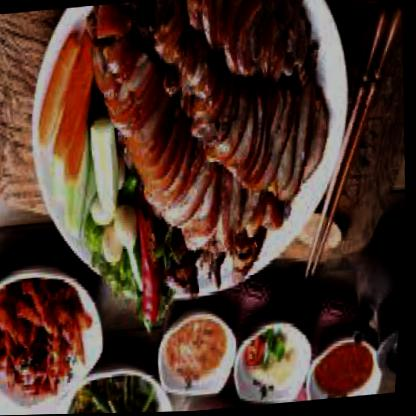pig hocks: (100, 0, 331, 246)
seasoned bellflower root: (0, 275, 106, 412)
